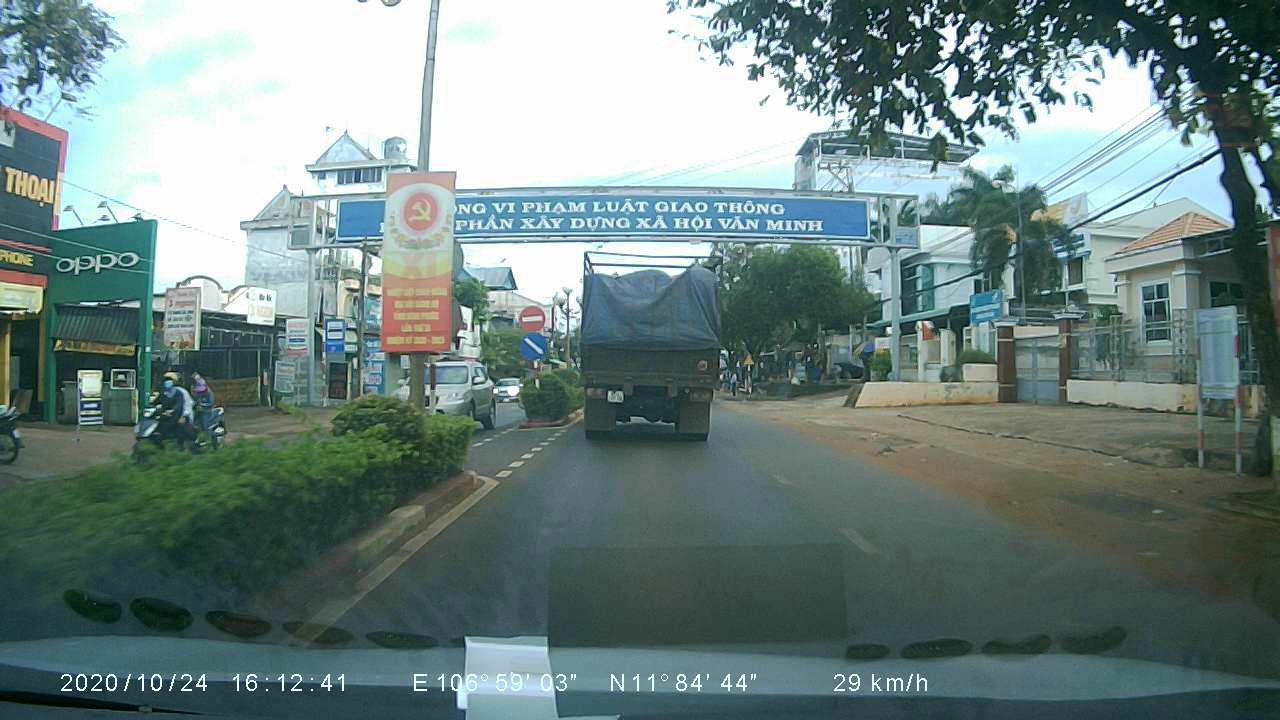Cam di nguoc chieu: (515, 301, 546, 333)
Huong di phai re phai: (516, 332, 544, 362)
